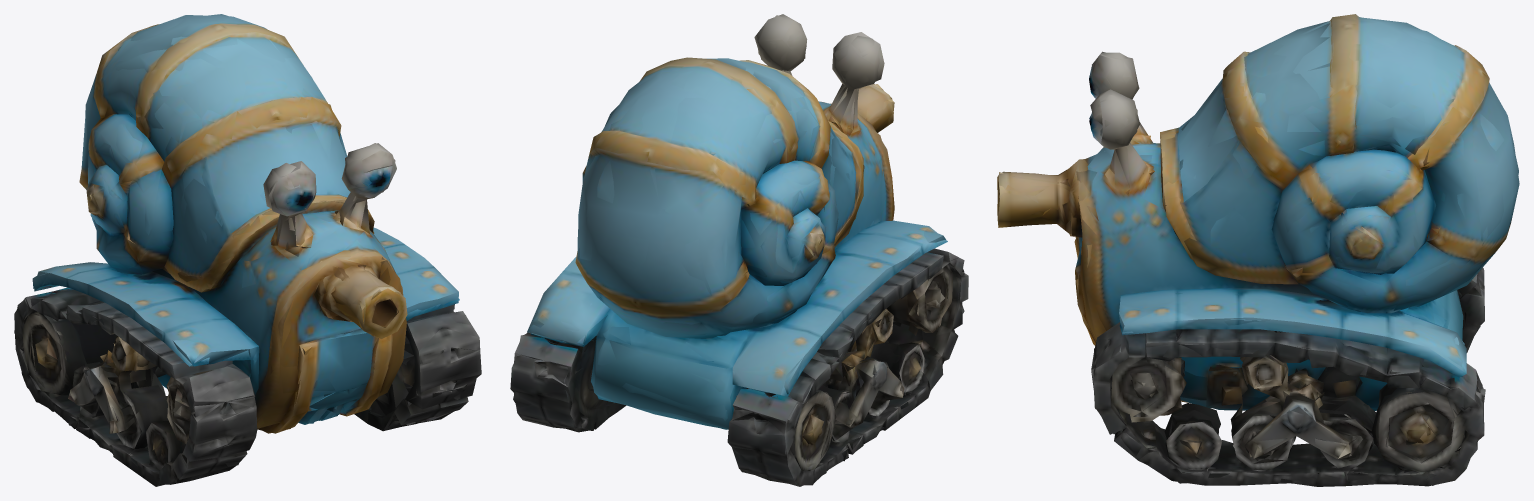
The model's file is snailer_tank_10000.glb.
The picture shows the model from 3 angles, left to right: view 1: azimuth 30°, elevation 25°; view 2: azimuth 150°, elevation 25°; view 3: azimuth 270°, elevation 25°; orthographic projection. The views are drawn at different scales.
Visible parts, largest first — view 1: low; view 2: low; view 3: low.
Boxes of the visible parts, x1,y1,x2,y2 form: low: (14, 14, 481, 486); low: (510, 14, 968, 486); low: (997, 14, 1519, 486).
Size of the model in its own units: 0.7167 by 0.8272 by 1.
Materials: 1 (1 with a texture image).
